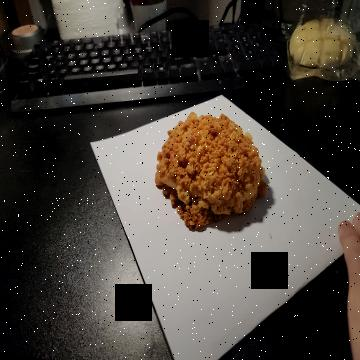soboru_bread: (151, 117, 270, 235)
